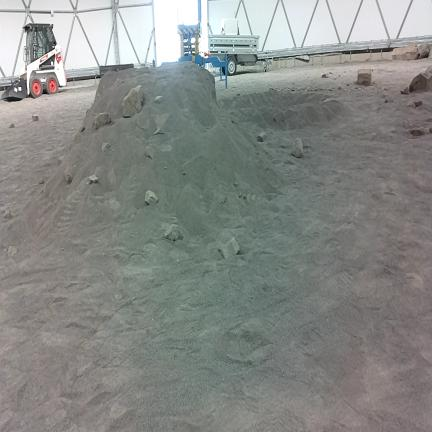Rock: (122, 85, 144, 117), (409, 66, 431, 91), (392, 44, 418, 60), (221, 238, 239, 258), (95, 112, 111, 130), (164, 225, 181, 241), (292, 138, 303, 157), (358, 69, 371, 85), (145, 190, 158, 205), (410, 124, 425, 136), (418, 43, 430, 58), (106, 168, 116, 185), (65, 168, 73, 184), (274, 111, 285, 122), (8, 246, 17, 257), (89, 174, 98, 184), (146, 146, 153, 158), (217, 194, 225, 204), (4, 209, 12, 219), (102, 142, 110, 152), (258, 132, 266, 141), (154, 128, 164, 135), (155, 96, 163, 103), (58, 156, 64, 165), (401, 88, 409, 94), (414, 101, 422, 107), (407, 101, 414, 107), (79, 125, 85, 132), (32, 115, 38, 121), (322, 73, 329, 78), (9, 123, 14, 128), (39, 179, 44, 184), (384, 99, 390, 103), (234, 182, 238, 186), (239, 192, 242, 197), (338, 86, 341, 90), (429, 128, 431, 133), (329, 72, 333, 74)
